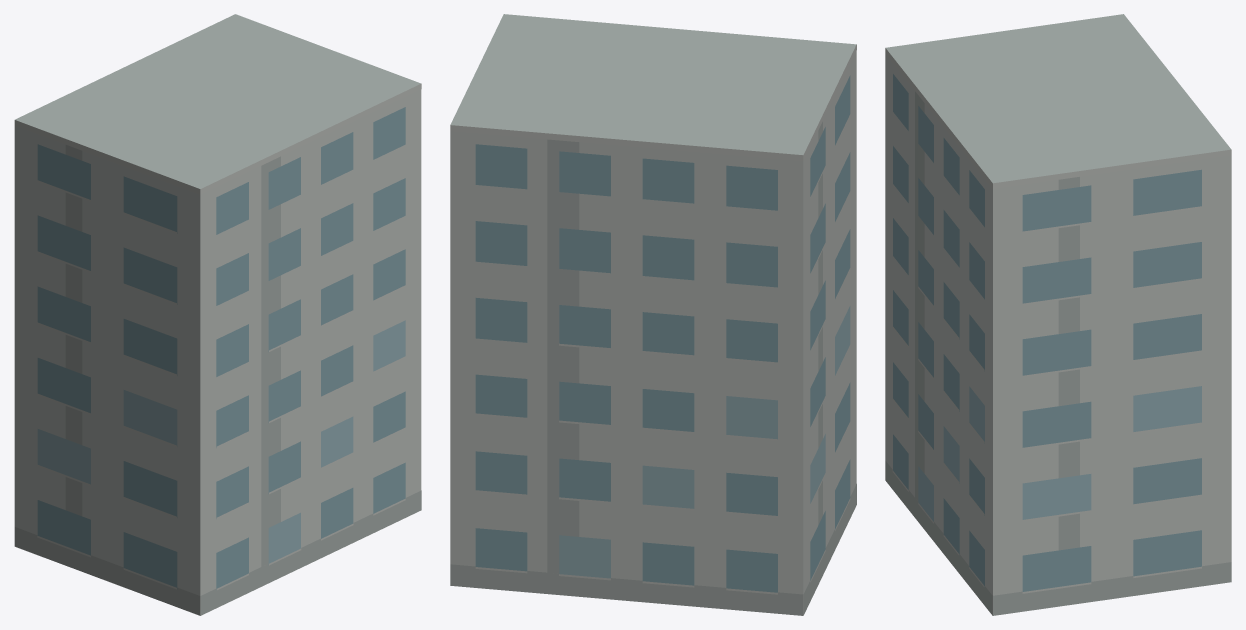
File: residential-7be7cbba-8309-406d-b5df-6fd0eb125ded.glb
3 renders of one model, left to right at view 1: azimuth 30°, elevation 25°; view 2: azimuth 150°, elevation 25°; view 3: azimuth 270°, elevation 25°, orthographic. The views are drawn at different scales.
Parts seen in each view (by area): view 1: residential-7be7cbba-8309-406d-b5df-6fd0eb125ded.tmp; view 2: residential-7be7cbba-8309-406d-b5df-6fd0eb125ded.tmp; view 3: residential-7be7cbba-8309-406d-b5df-6fd0eb125ded.tmp.
Part boxes in pixels (x1,y1,x2,y2): residential-7be7cbba-8309-406d-b5df-6fd0eb125ded.tmp: (14,14,421,615); residential-7be7cbba-8309-406d-b5df-6fd0eb125ded.tmp: (450,14,856,615); residential-7be7cbba-8309-406d-b5df-6fd0eb125ded.tmp: (885,14,1231,615).
Size of the model in its own units: 15.37 by 18.3 by 13.28.
